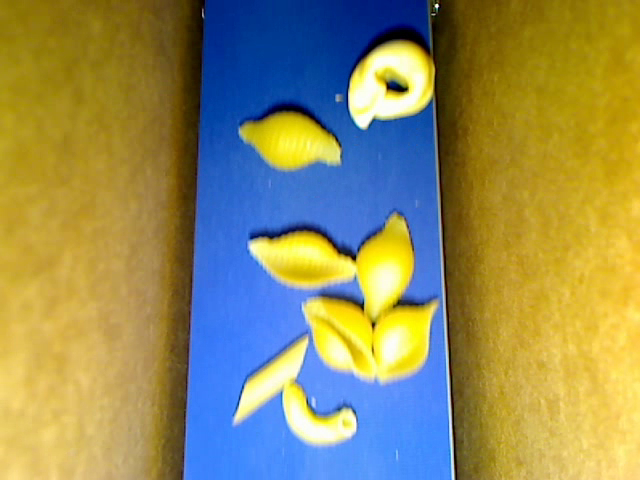elbow: (282, 381, 356, 445)
penne: (234, 333, 307, 423)
shell: (355, 211, 413, 321), (237, 110, 341, 171), (247, 230, 356, 288), (300, 296, 374, 378), (372, 297, 440, 384)
tortellini: (347, 40, 434, 129)
